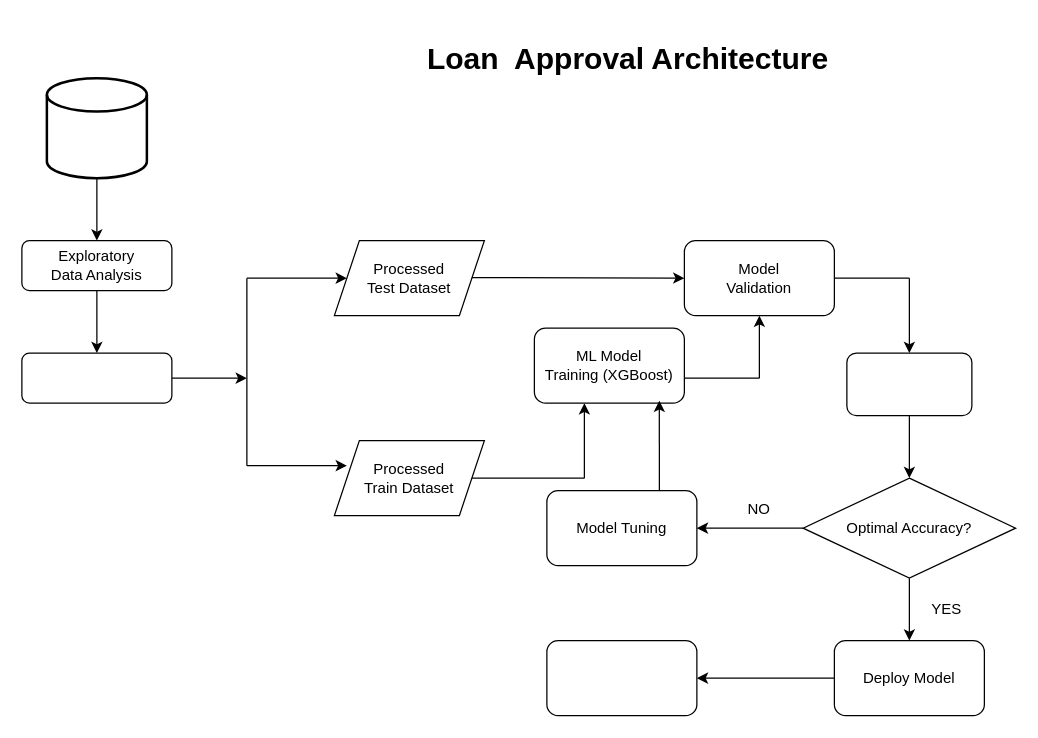
Image size: 1038x738. Some labels were removed from this diagram. Each missing label, with the centre of its shape:
"Model Accuracy" goes at pixel 909 384.
"Pre-processing of Data" goes at pixel 96 377.
"Prediction Result Yes/No" goes at pixel 621 677.
"Raw Data Collection" goes at pixel 96 127.
